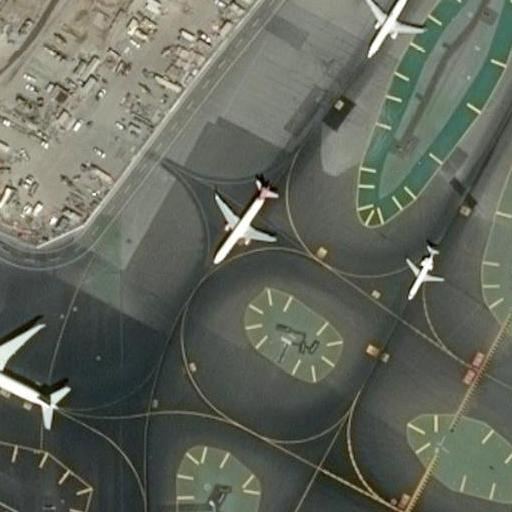Aircraft: (0, 316, 69, 444), (209, 177, 283, 264), (362, 0, 425, 59), (402, 242, 443, 299)
